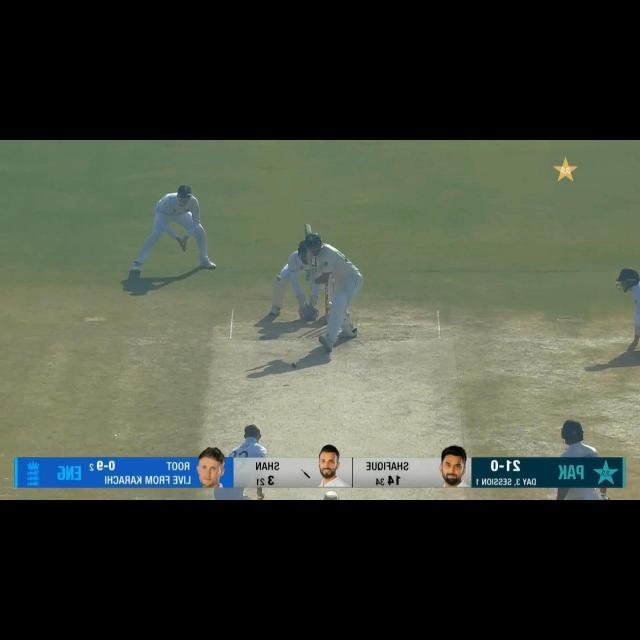bat: (302, 224, 316, 234)
toe: (300, 223, 311, 233)
